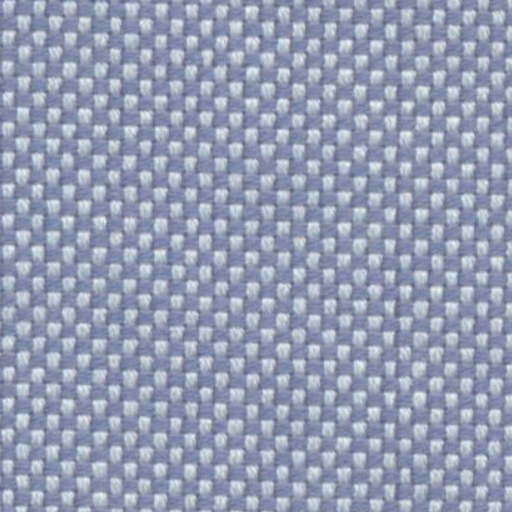TuoSha: (365, 19, 425, 499)
